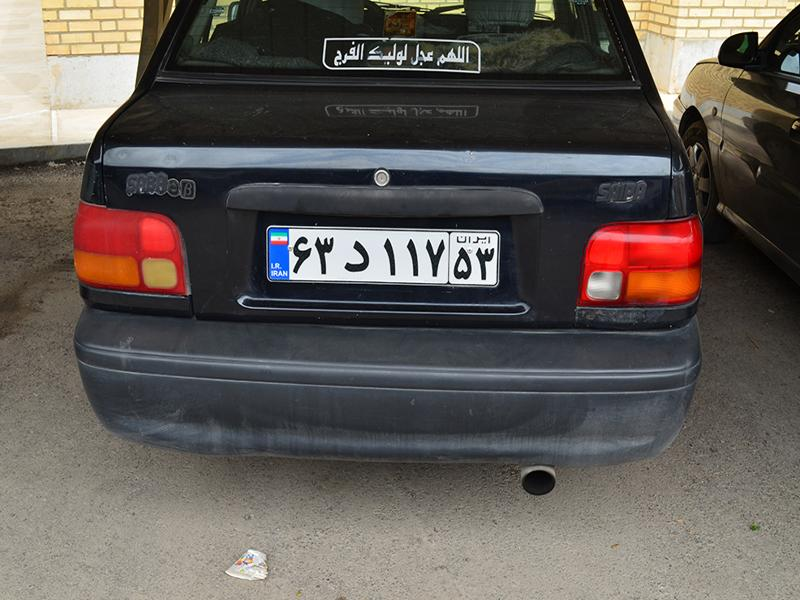Plate: (250, 211, 517, 304)
